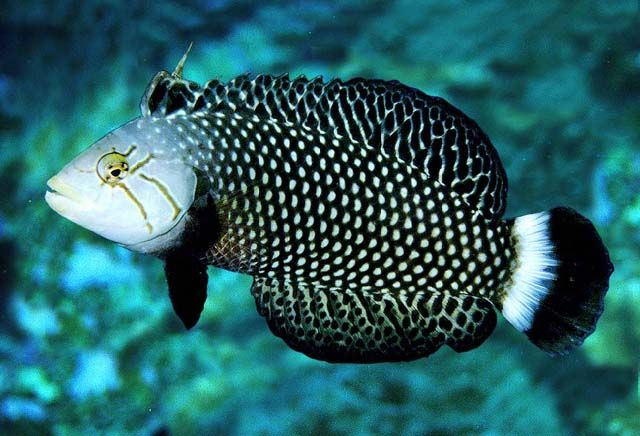fish: (44, 71, 615, 366)
